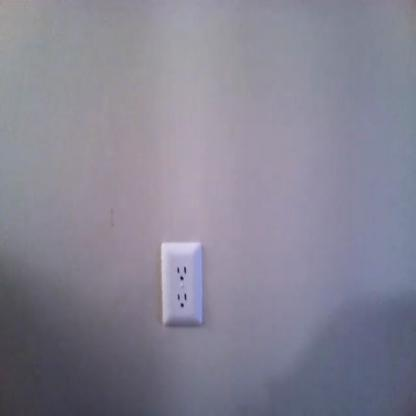OUTLET: (159, 240, 204, 328)
